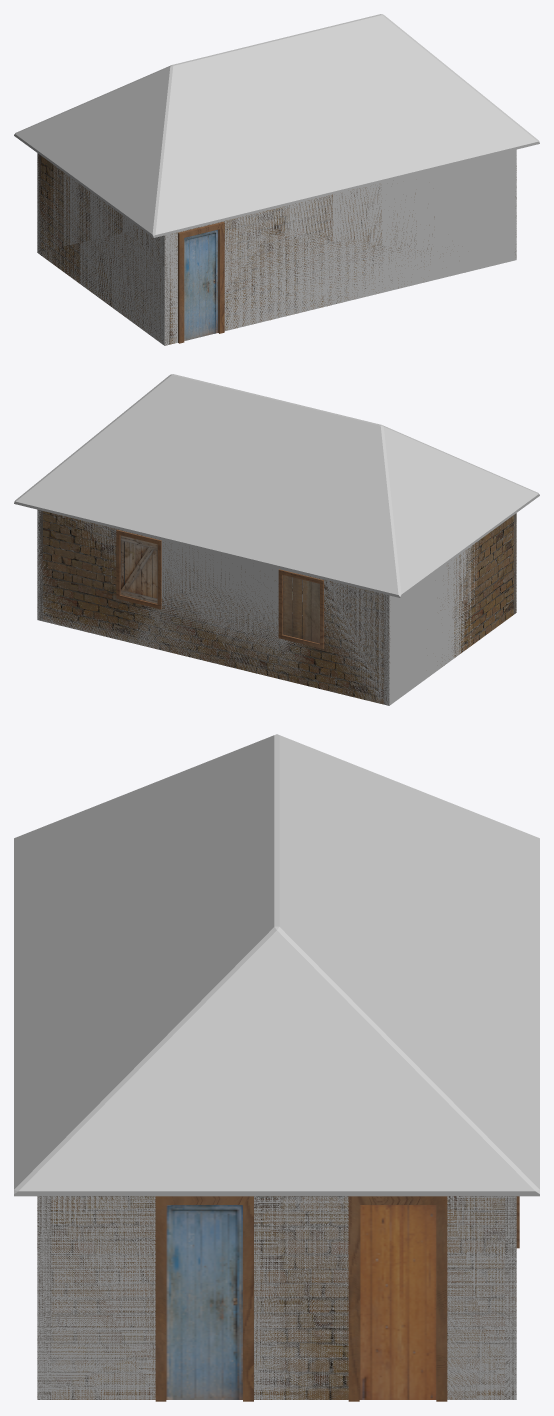
File: 18_casa.fbx
3 renders of one model, top to bottom at view 1: azimuth 30°, elevation 25°; view 2: azimuth 150°, elevation 25°; view 3: azimuth 270°, elevation 25°, orthographic. The views are drawn at different scales.
Parts seen in each view (by area): view 1: telhado, casa18_LOD0, casa18_LOD0.001; view 2: telhado, casa18_LOD0.001, casa18_LOD0; view 3: telhado, casa18_LOD0.001, casa18_LOD0.
Part boxes in pixels (<box>): telhado: <box>14,14,539,237</box>; casa18_LOD0: <box>37,149,516,345</box>; casa18_LOD0.001: <box>37,153,516,345</box>; telhado: <box>14,374,539,597</box>; casa18_LOD0.001: <box>37,510,516,705</box>; casa18_LOD0: <box>37,509,516,705</box>; telhado: <box>14,734,539,1196</box>; casa18_LOD0.001: <box>37,1196,516,1399</box>; casa18_LOD0: <box>37,1196,519,1401</box>.
Bounding box in the file's own units: 660 × 353 × 414.
